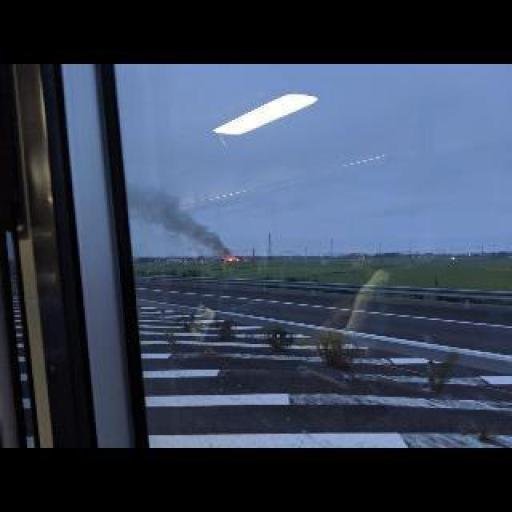smoke: (165, 213, 232, 254), (226, 256, 238, 259)
